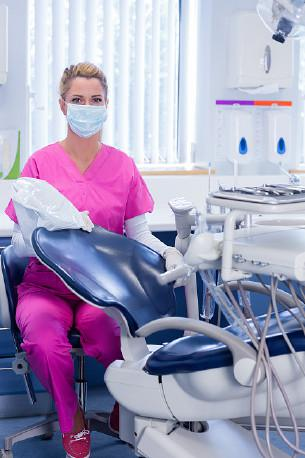OK: (66, 93, 112, 139)
